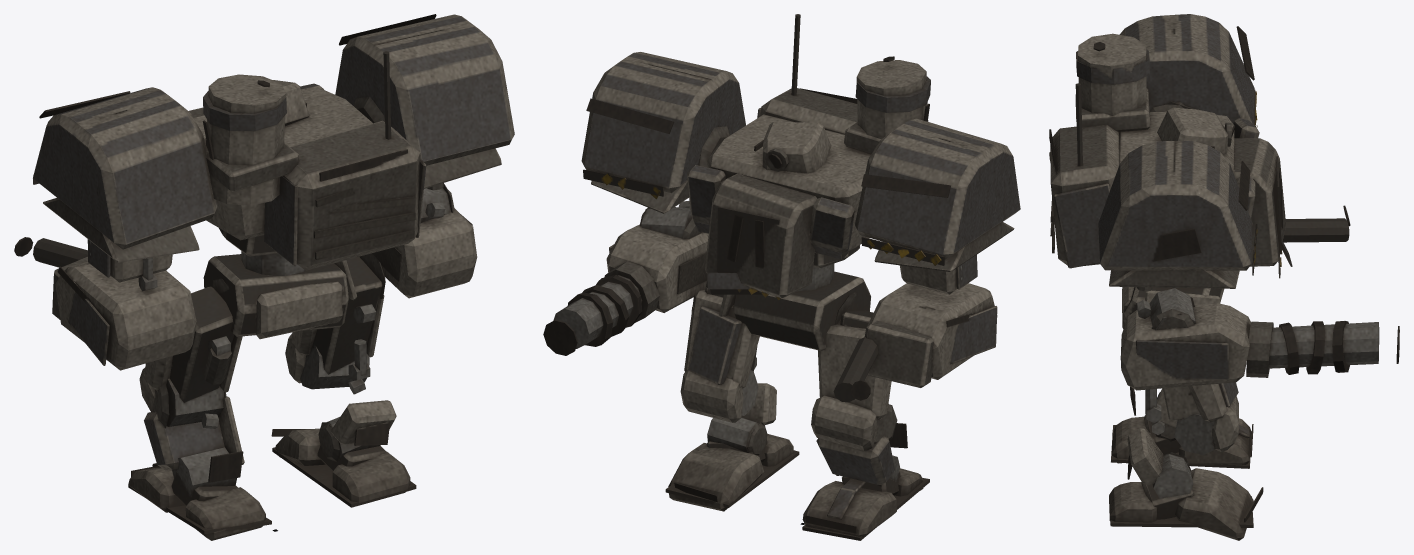
The model's file is ord_titan_wreck.fbx.
3 renders of one model, left to right at view 1: azimuth 30°, elevation 25°; view 2: azimuth 150°, elevation 25°; view 3: azimuth 270°, elevation 25°, orthographic. The views are drawn at different scales.
Visible parts, largest first — view 1: torso_bar, blaster_arm_bar, base_bar, thighL_bar, missile_pod_bar, thighR_bar, footL_bar, footR_bar, beam_arm_bar, shinL_bar, shinR_bar; view 2: torso_bar, blaster_arm_bar, beam_arm_bar, thighR_bar, footR_bar, thighL_bar, base_bar, footL_bar, missile_pod_bar, shinL_bar, shinR_bar; view 3: torso_bar, beam_arm_bar, footR_bar, missile_pod_bar, thighR_bar, footL_bar, shinR_bar, blaster_arm_bar, base_bar, shinL_bar.
Part boxes in pixels (<box>): torso_bar: <box>33,14,514,275</box>; blaster_arm_bar: <box>14,237,196,370</box>; base_bar: <box>203,254,356,339</box>; thighL_bar: <box>139,278,242,428</box>; missile_pod_bar: <box>202,74,286,205</box>; thighR_bar: <box>285,253,385,389</box>; footL_bar: <box>128,447,271,540</box>; footR_bar: <box>271,417,416,507</box>; beam_arm_bar: <box>372,183,477,298</box>; shinL_bar: <box>144,396,244,482</box>; shinR_bar: <box>331,379,396,445</box>; torso_bar: <box>581,14,1020,299</box>; blaster_arm_bar: <box>833,255,997,402</box>; beam_arm_bar: <box>543,200,708,355</box>; thighR_bar: <box>680,281,759,422</box>; footR_bar: <box>665,417,799,511</box>; thighL_bar: <box>811,293,897,450</box>; base_bar: <box>719,271,870,350</box>; footL_bar: <box>802,455,929,540</box>; missile_pod_bar: <box>855,56,930,154</box>; shinL_bar: <box>816,423,907,484</box>; shinR_bar: <box>741,383,776,425</box>; torso_bar: <box>1049,14,1292,288</box>; beam_arm_bar: <box>1120,287,1399,390</box>; footR_bar: <box>1109,452,1263,540</box>; missile_pod_bar: <box>1076,33,1149,132</box>; thighR_bar: <box>1145,382,1238,454</box>; footL_bar: <box>1111,392,1253,468</box>; shinR_bar: <box>1127,421,1214,485</box>; blaster_arm_bar: <box>1283,205,1350,242</box>; base_bar: <box>1122,287,1224,328</box>; shinL_bar: <box>1130,387,1177,427</box>.
Size of the model in its own units: 2140 by 2470 by 1712.
2 materials, 2 textured.
